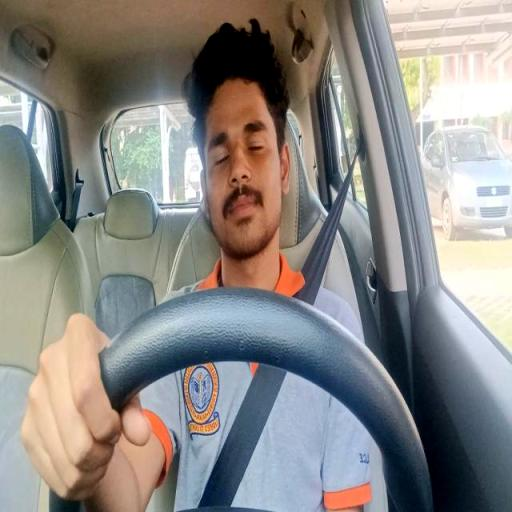Closed Eye: (187, 22, 305, 340)
